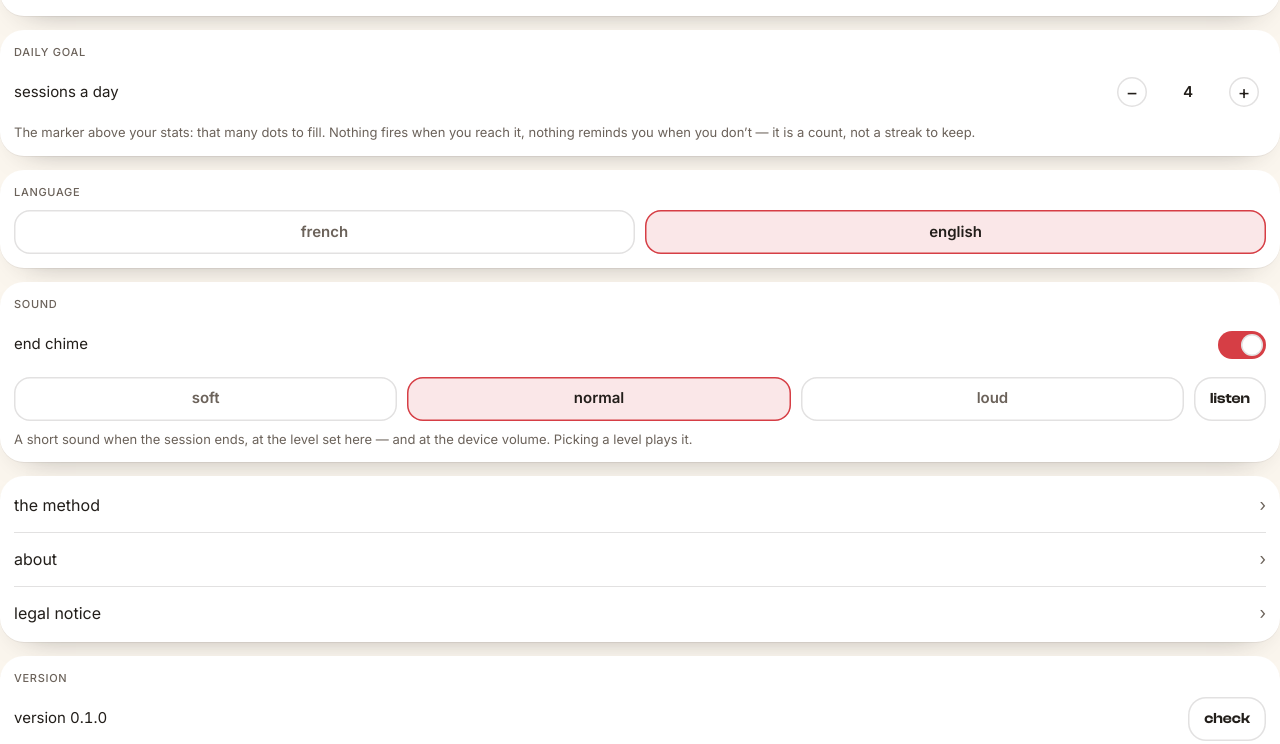
Test: the sound › offers the volume only while the chime is on
(page scrolled)
Click the switch labelled "end chime". click: click(51, 344)
box: [14,323,1266,367]
(page scrolled)
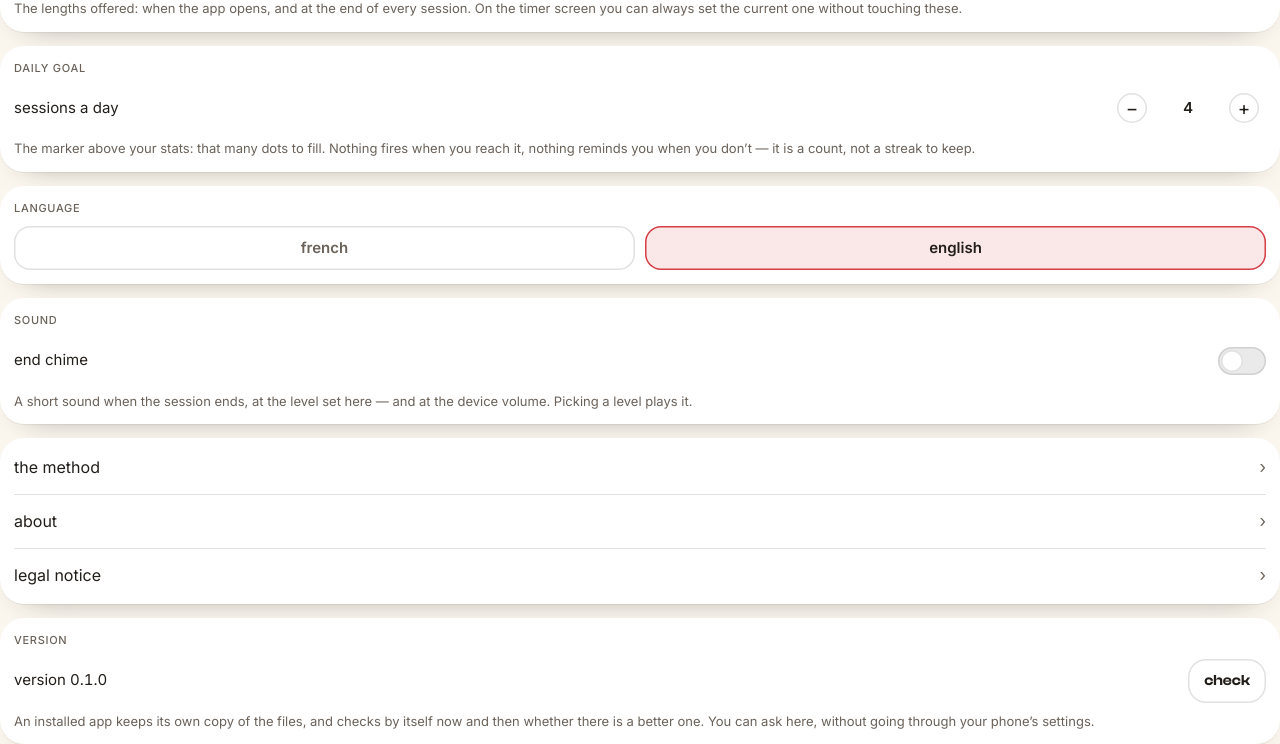
Expected: the button "normal" is gone
